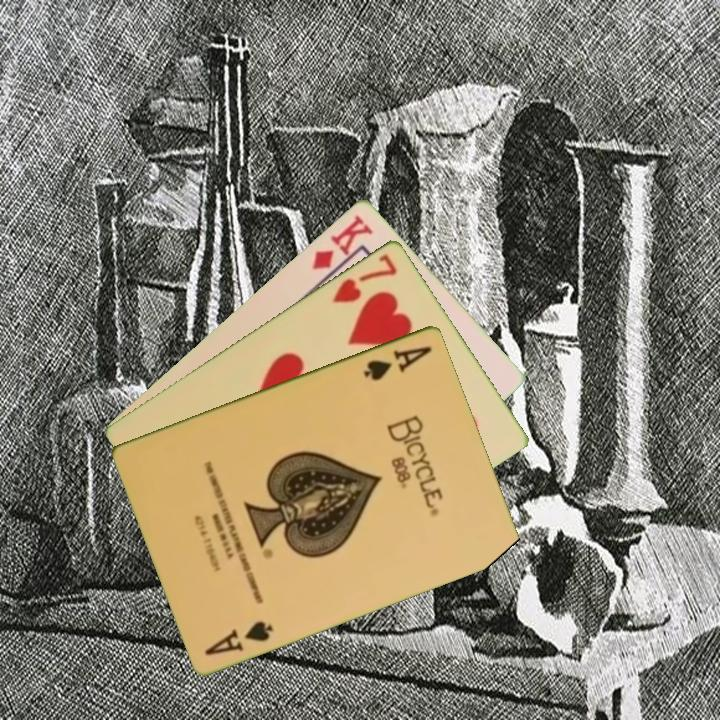7h: (329, 250, 400, 306)
As: (201, 616, 276, 658), (360, 342, 435, 383)
Kd: (308, 211, 376, 284)
